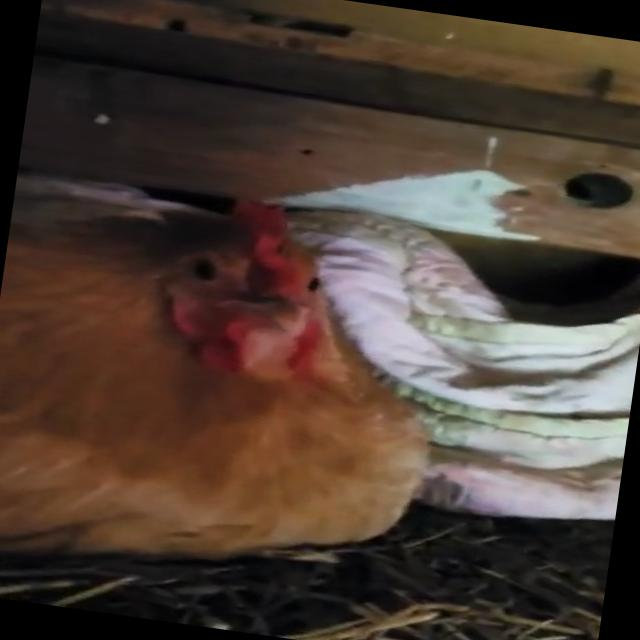menacing: (0, 141, 452, 623)
